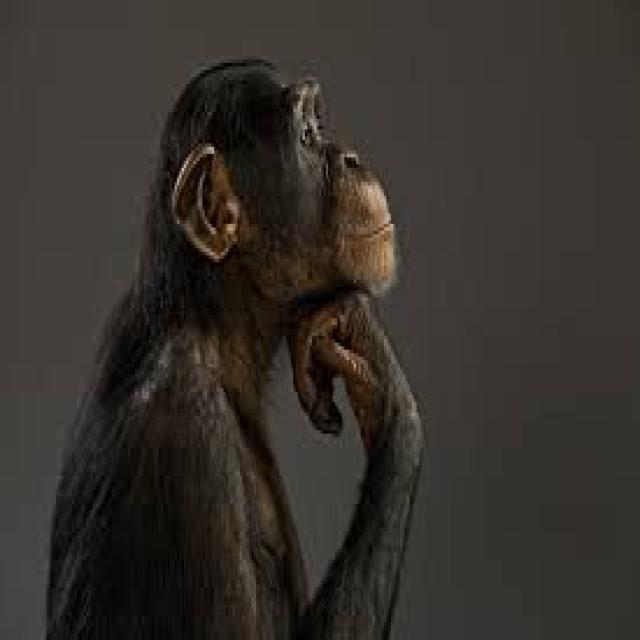Chimpanzee: (56, 70, 414, 640)
